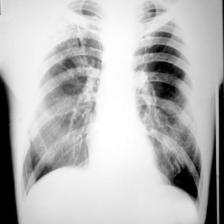tuberculosis: (18, 0, 206, 209)
